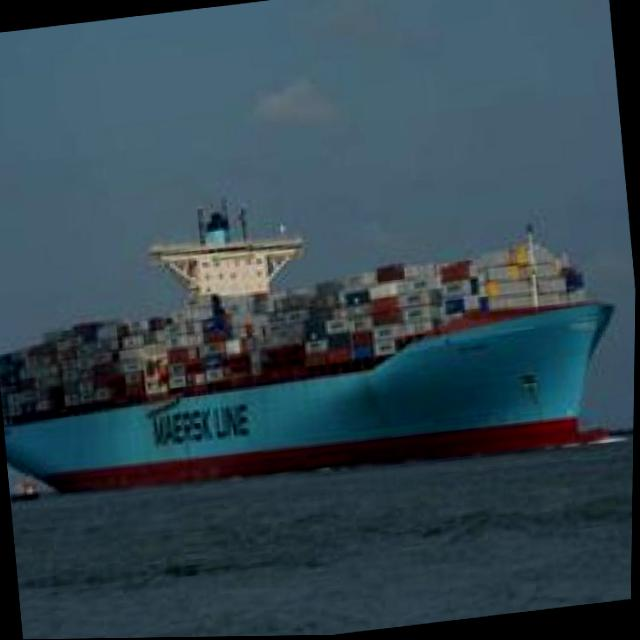ship2: (0, 196, 617, 496)
